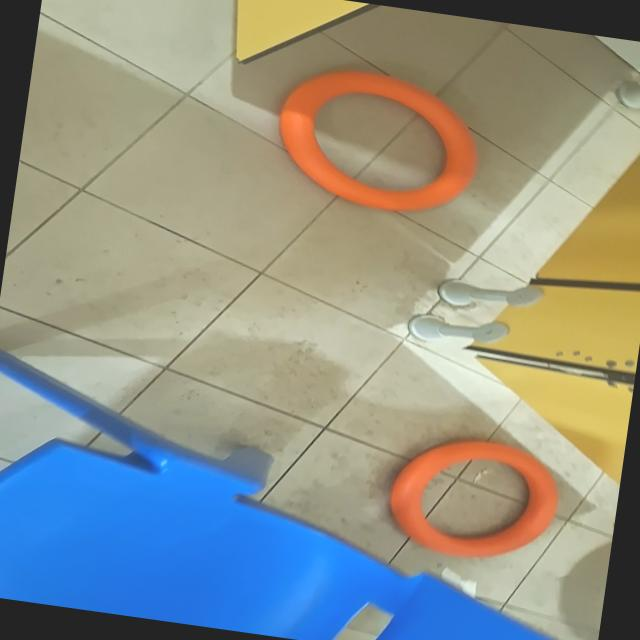note: (267, 59, 489, 223), (381, 428, 566, 570)
